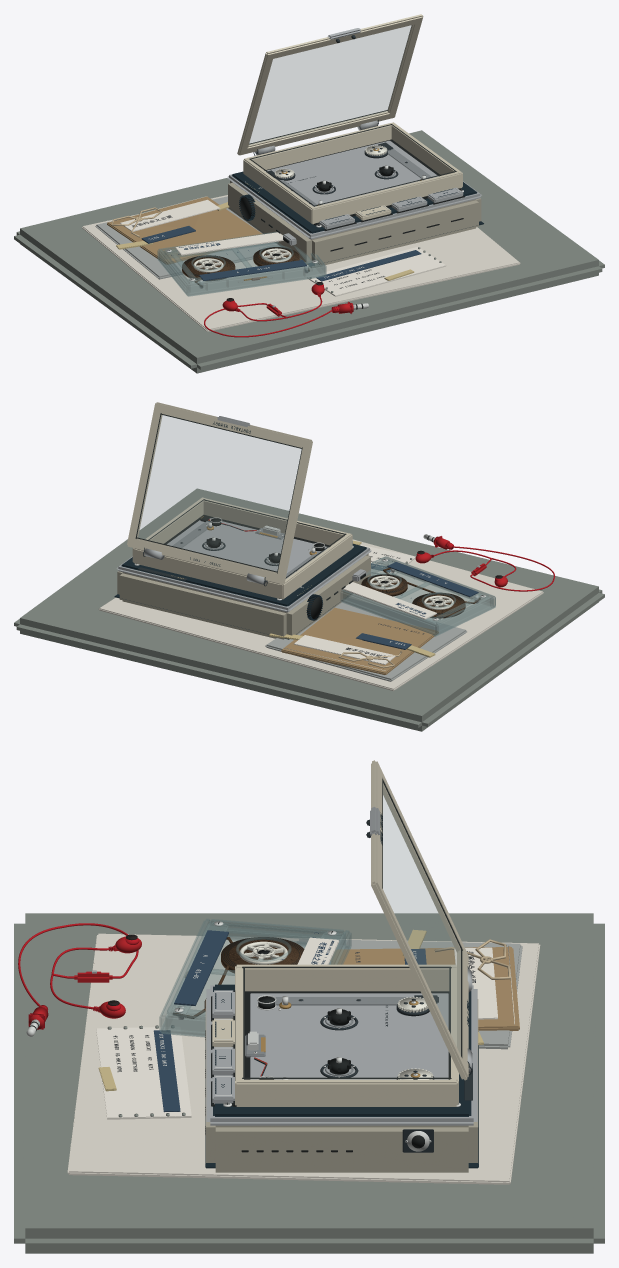
The model's file is cassette-deck.glb.
The picture shows the model from 3 angles, top to bottom: view 1: azimuth 30°, elevation 25°; view 2: azimuth 150°, elevation 25°; view 3: azimuth 270°, elevation 25°; orthographic projection. The views are drawn at different scales.
Visible parts, largest first — view 1: DeskStillLife_static, DoorPivot_static, OpeningPaper_static, CassetteBay_static, Player_static, Cassette_static, Envelope_static, TrackReceipt_static, ReelLeft_static, ReelRight_static, Earphones_static; view 2: DeskStillLife_static, DoorPivot_static, OpeningPaper_static, CassetteBay_static, Player_static, Cassette_static, Envelope_static, ReelLeft_static, TrackReceipt_static, ReelRight_static, Earphones_static; view 3: DeskStillLife_static, OpeningPaper_static, CassetteBay_static, Player_static, DoorPivot_static, Cassette_static, TrackReceipt_static, Envelope_static, ReelLeft_static, Earphones_static, ButtonPlay_static, ButtonRewind_static (+2 smaller).
Part boxes in pixels (left/top/right/bottom): DeskStillLife_static: left=14, top=130, right=604, bottom=373; DoorPivot_static: left=237, top=14, right=423, bottom=155; OpeningPaper_static: left=82, top=195, right=520, bottom=331; CassetteBay_static: left=243, top=122, right=462, bottom=225; Player_static: left=227, top=171, right=483, bottom=267; Cassette_static: left=157, top=231, right=326, bottom=296; Envelope_static: left=107, top=196, right=262, bottom=264; TrackReceipt_static: left=307, top=247, right=446, bottom=296; ReelLeft_static: left=182, top=255, right=235, bottom=281; ReelRight_static: left=253, top=247, right=299, bottom=266; Earphones_static: left=204, top=295, right=332, bottom=337; DeskStillLife_static: left=14, top=488, right=604, bottom=731; DoorPivot_static: left=127, top=402, right=312, bottom=586; OpeningPaper_static: left=98, top=539, right=543, bottom=691; CassetteBay_static: left=132, top=497, right=352, bottom=599; Player_static: left=114, top=544, right=371, bottom=639; Cassette_static: left=340, top=556, right=495, bottom=636; Envelope_static: left=281, top=608, right=438, bottom=674; ReelLeft_static: left=412, top=592, right=465, bottom=618; TrackReceipt_static: left=353, top=540, right=415, bottom=574; ReelRight_static: left=361, top=574, right=407, bottom=596; Earphones_static: left=434, top=546, right=555, bottom=591; DeskStillLife_static: left=14, top=913, right=604, bottom=1253; OpeningPaper_static: left=67, top=929, right=540, bottom=1184; CassetteBay_static: left=231, top=964, right=458, bottom=1106; Player_static: left=205, top=984, right=478, bottom=1172; DoorPivot_static: left=366, top=760, right=472, bottom=1080; Cassette_static: left=159, top=918, right=351, bottom=1037; TrackReceipt_static: left=96, top=1025, right=191, bottom=1119; Envelope_static: left=331, top=945, right=519, bottom=1030; ReelLeft_static: left=221, top=937, right=304, bottom=973; Earphones_static: left=18, top=923, right=138, bottom=1009; ButtonPlay_static: left=211, top=1018, right=234, bottom=1049; ButtonRewind_static: left=211, top=990, right=234, bottom=1021.
Bounding box in the file's own units: 8.25 × 3.81 × 6.35.
Materials: 31 (12 with a texture image).
